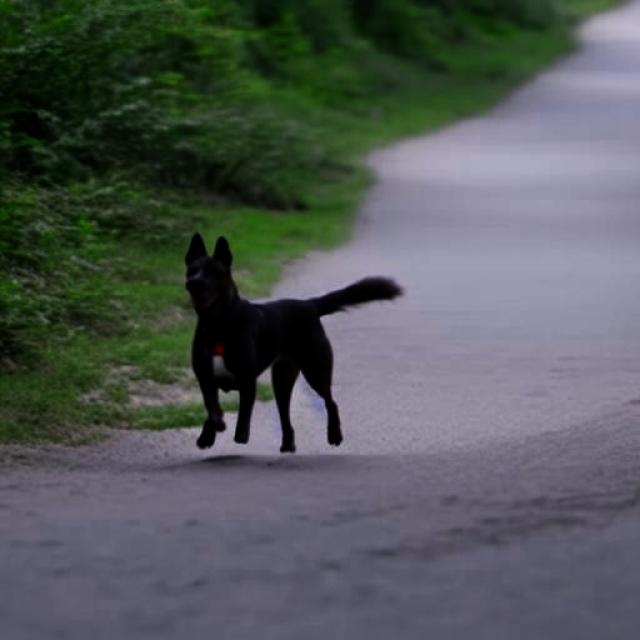Dog: (184, 231, 404, 452)
